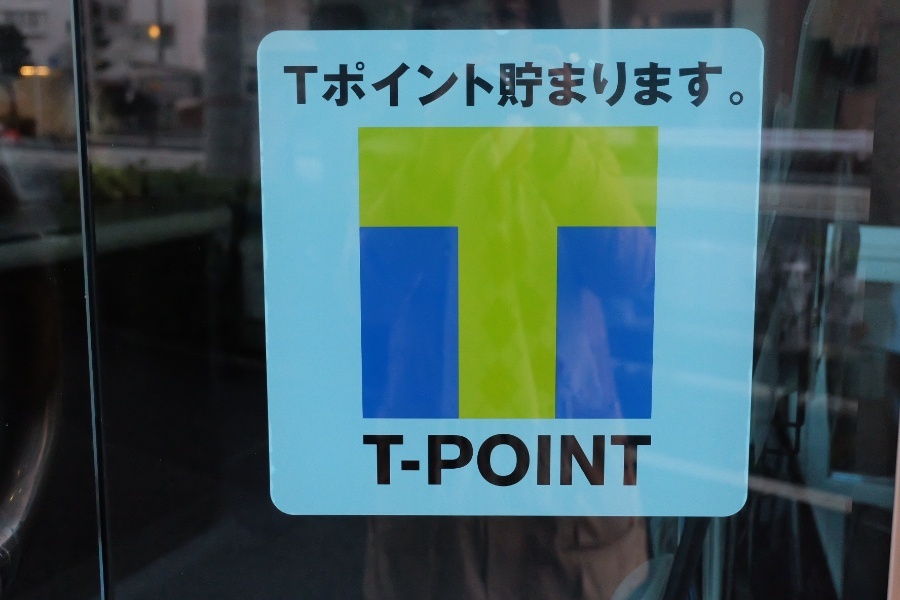text: (369, 434, 384, 490), (385, 434, 400, 490), (401, 434, 416, 490), (417, 434, 432, 490), (433, 434, 448, 490), (449, 434, 464, 490), (465, 434, 480, 490), (481, 434, 496, 490), (497, 434, 512, 490), (513, 434, 528, 490), (529, 434, 544, 490), (545, 434, 560, 490), (561, 434, 576, 490), (577, 434, 592, 490), (593, 434, 608, 490), (609, 434, 624, 490), (625, 434, 640, 490), (641, 434, 655, 490), (289, 61, 304, 109), (305, 61, 320, 109), (321, 61, 336, 109), (337, 61, 352, 109), (353, 61, 368, 109), (369, 61, 384, 109), (385, 61, 400, 109), (401, 61, 416, 109), (417, 61, 432, 109), (433, 61, 448, 109), (449, 61, 464, 109), (465, 61, 480, 109), (481, 61, 496, 109), (497, 61, 512, 109), (513, 61, 528, 109), (529, 61, 544, 109), (545, 61, 560, 109), (561, 61, 576, 109), (577, 61, 592, 109), (593, 61, 608, 109), (609, 61, 624, 109), (625, 61, 640, 109), (641, 61, 656, 109), (657, 61, 672, 109), (673, 61, 688, 109), (689, 61, 704, 109), (705, 61, 720, 109), (361, 434, 368, 490), (283, 61, 288, 109), (721, 61, 724, 109)
